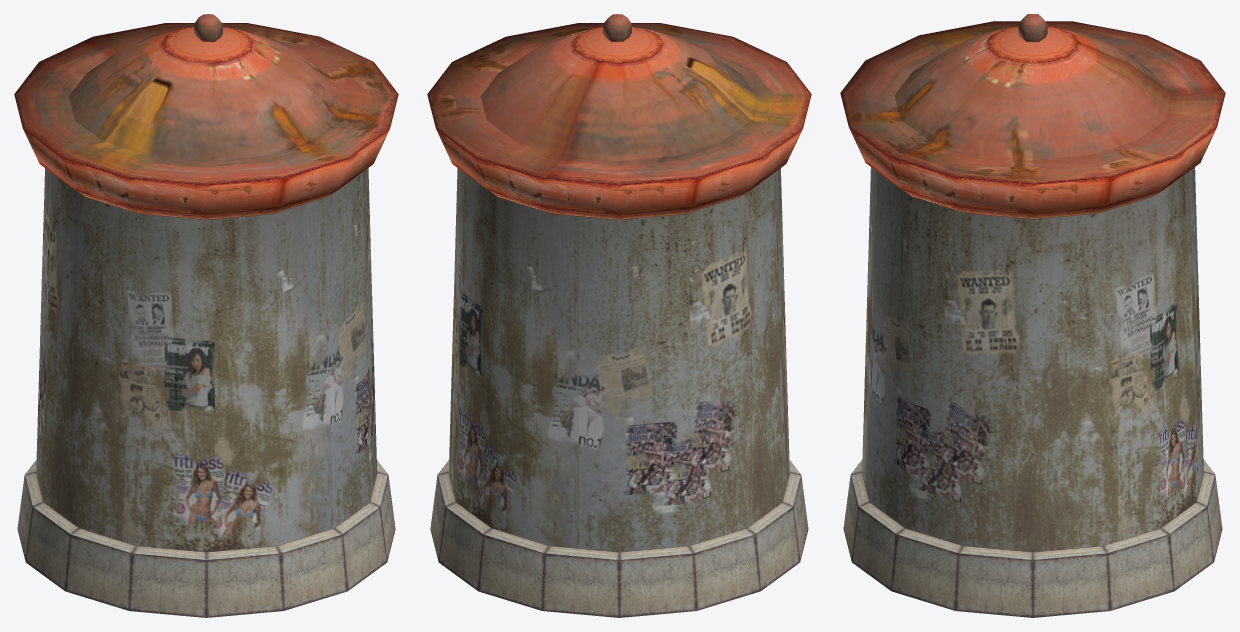
Rendered from Model_NewsPole.fbx.
3 renders of one model, left to right at view 1: azimuth 30°, elevation 25°; view 2: azimuth 150°, elevation 25°; view 3: azimuth 270°, elevation 25°, orthographic.
Parts seen in each view (by area): view 1: NewsPole; view 2: NewsPole; view 3: NewsPole.
Boxes of the visible parts, x1,y1,x2,y2 form: NewsPole: (14,14,398,617); NewsPole: (427,14,811,617); NewsPole: (840,14,1225,617).
Bounding box in the file's own units: 243 × 366 × 244.
